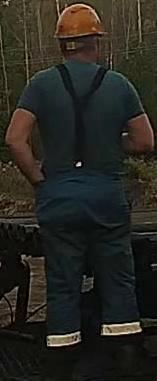helmet: (52, 3, 108, 39)
